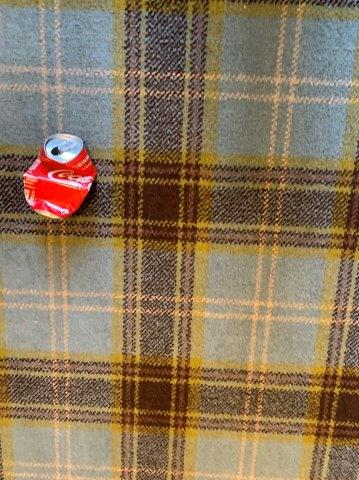kaleng: (25, 134, 94, 218)
